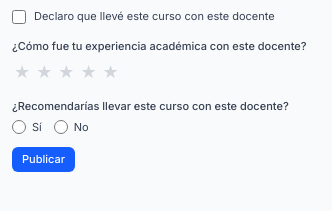
Test case: ReviewForm — rechazo del servidor › muestra el error que devuelve el servidor
The width and height of the screenshot is (332, 211).
What coordinates should you click on to do the following:
click the checkbox labelled "Declaro que llevé este curso con este docente"
I would click on:
 (19, 17)
Its box is [12,10,26,24].
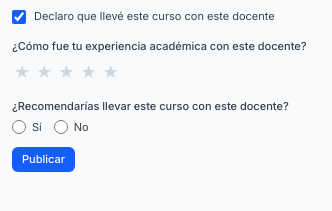
What coordinates should you click on to do the following:
click the radio button named "4 estrellas"
I would click on:
 (88, 72)
Its box is [78,58,98,86].
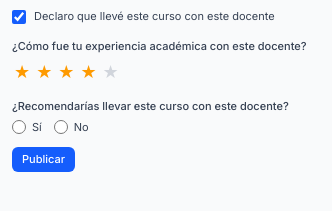
What coordinates should you click on to do the following:
click the radio button labelled "Sí"
I would click on:
 (19, 127)
Its box is [12,120,26,134].
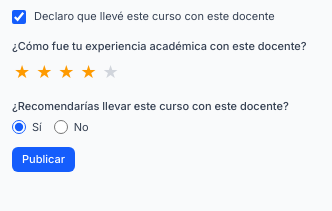
What coordinates should you click on to do the following:
click the button "Publicar"
I would click on:
 (44, 160)
Its box is [12,147,75,172].
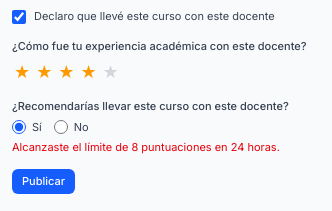
Check: the text "Alcanzaste el límite de 8 puntuaciones en 24 horas." is shown, box [12,140,280,154]
